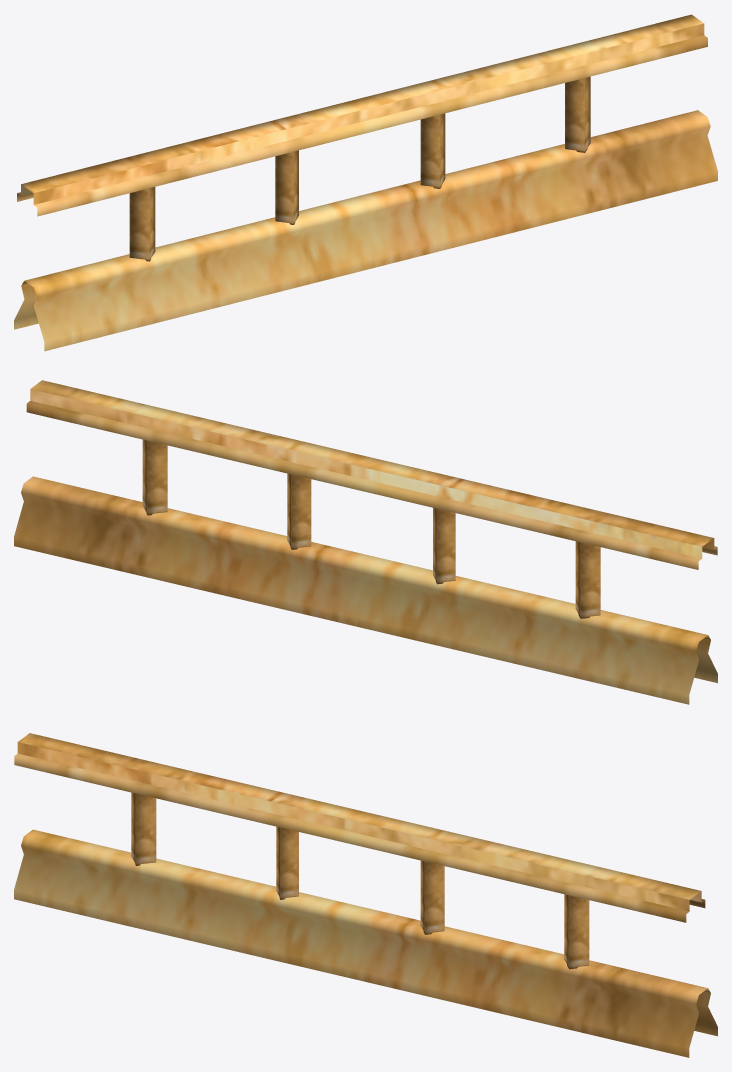
The model's file is S_Build_City192.FBX.
3 renders of one model, top to bottom at view 1: azimuth 30°, elevation 25°; view 2: azimuth 150°, elevation 25°; view 3: azimuth 330°, elevation 25°, orthographic.
Parts seen in each view (by area): view 1: S_Build_City192; view 2: S_Build_City192; view 3: S_Build_City192.
Part boxes in pixels (left/top/right/bottom): S_Build_City192: left=14, top=14, right=717, bottom=351; S_Build_City192: left=14, top=380, right=717, bottom=704; S_Build_City192: left=14, top=733, right=717, bottom=1057.
Size of the model in its own units: 649 by 59.28 by 139.
